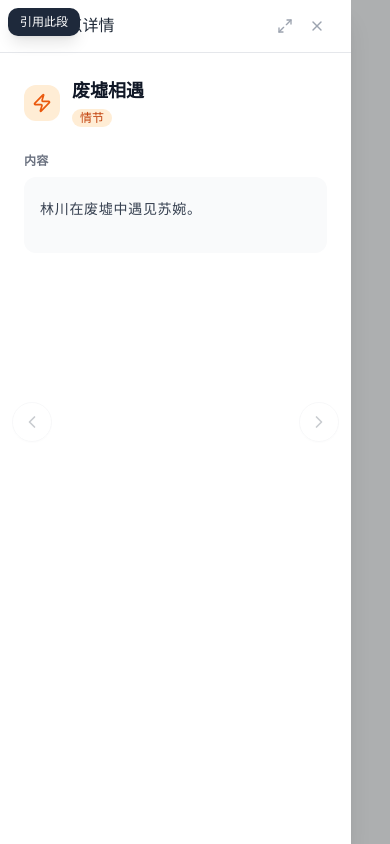
Test: NodeDetailDrawer › shows 引用此段 after selecting text and adds that quote to conversation context
Click the button "引用此段".
click(44, 22)  # box [8,8,80,36]
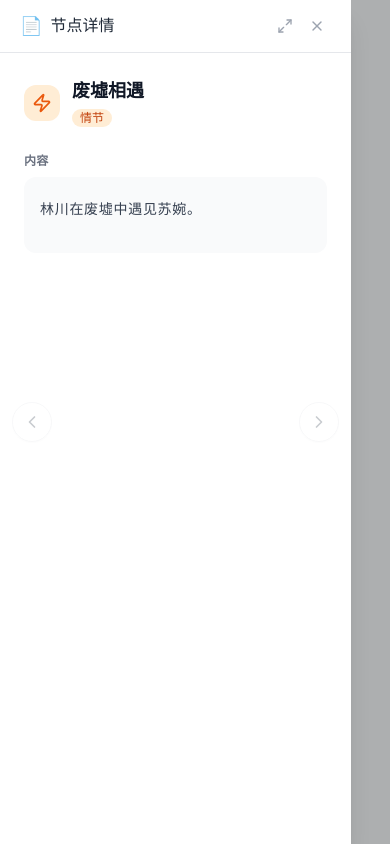
expect the button "引用此段" is gone: met
